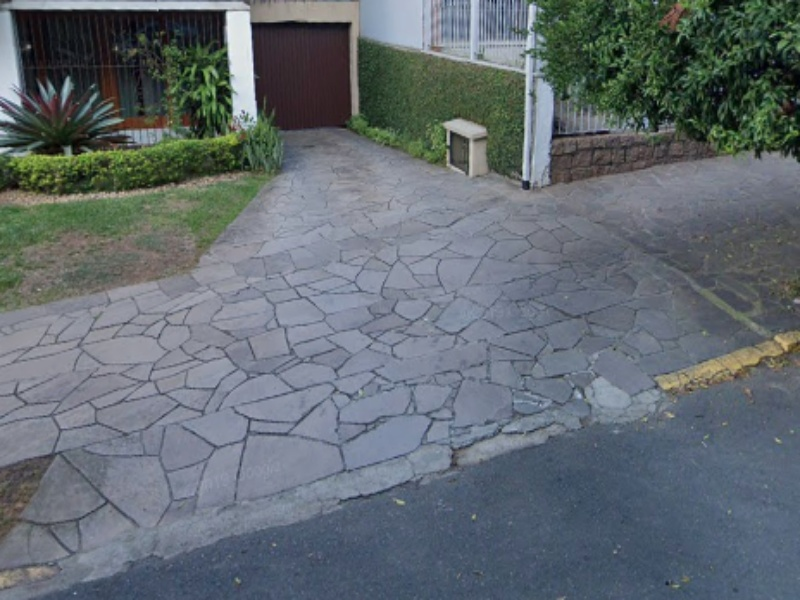g59: (95, 336, 665, 594)
